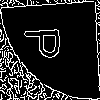P: (24, 25, 69, 62)
